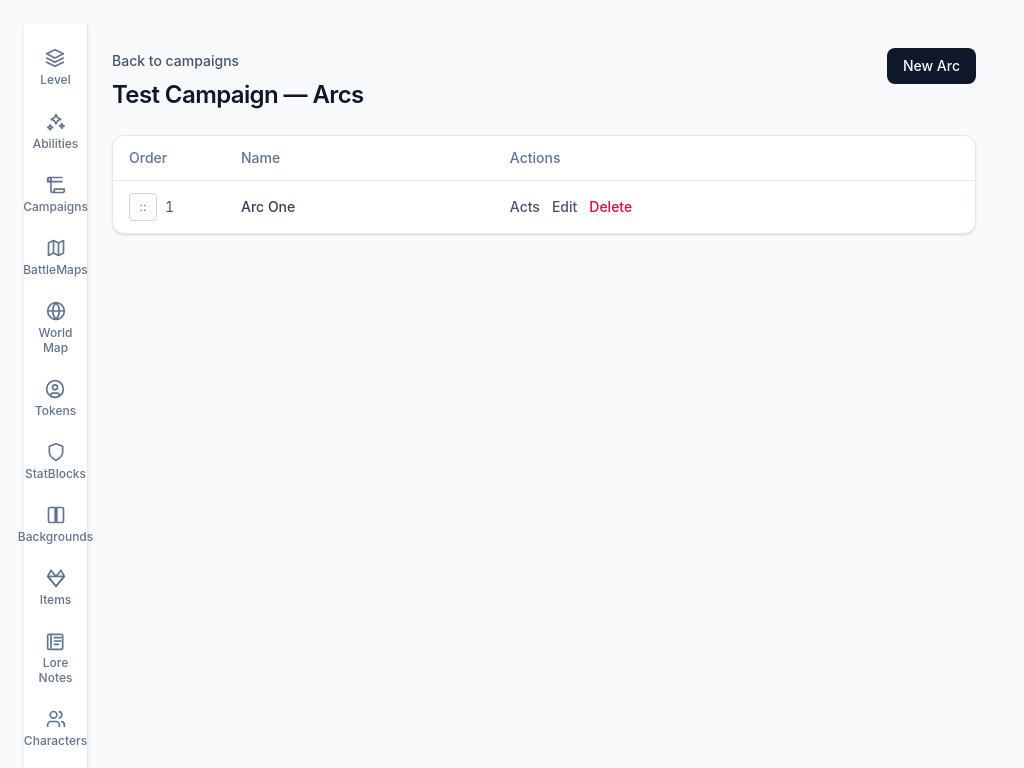
ArcsPage › edit arc › updates arc on edit submit
The image size is (1024, 768).
Expected: the text "Arc One" is shown, [225, 180, 494, 233]
Click the button "Edit" at (565, 207), box [552, 197, 577, 217]
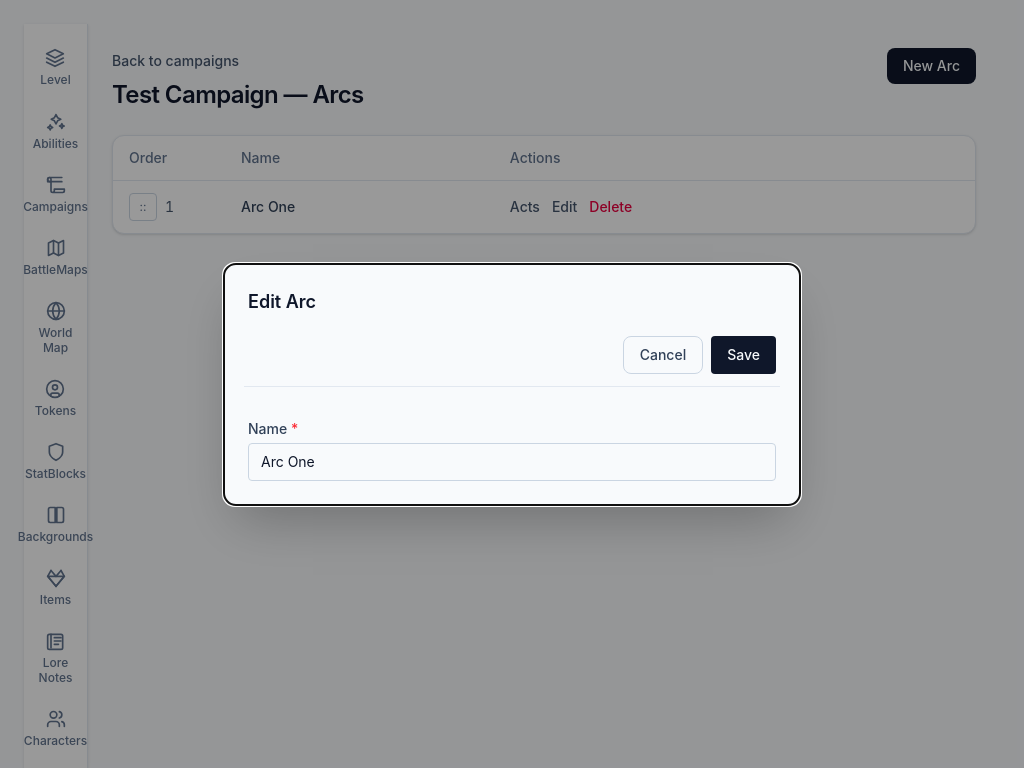
Replace the text in the field labelled "Name *" with "Arc Renamed" at (512, 462), box [248, 442, 776, 480]
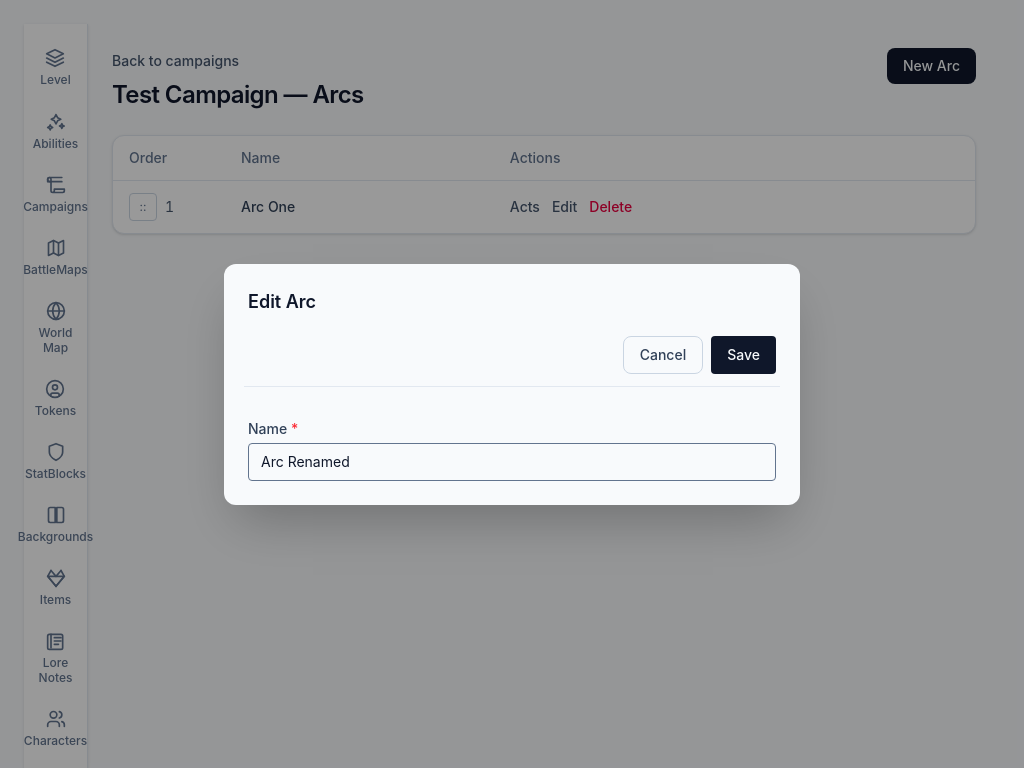
Click the button "Save" at (744, 354), box [711, 336, 776, 374]
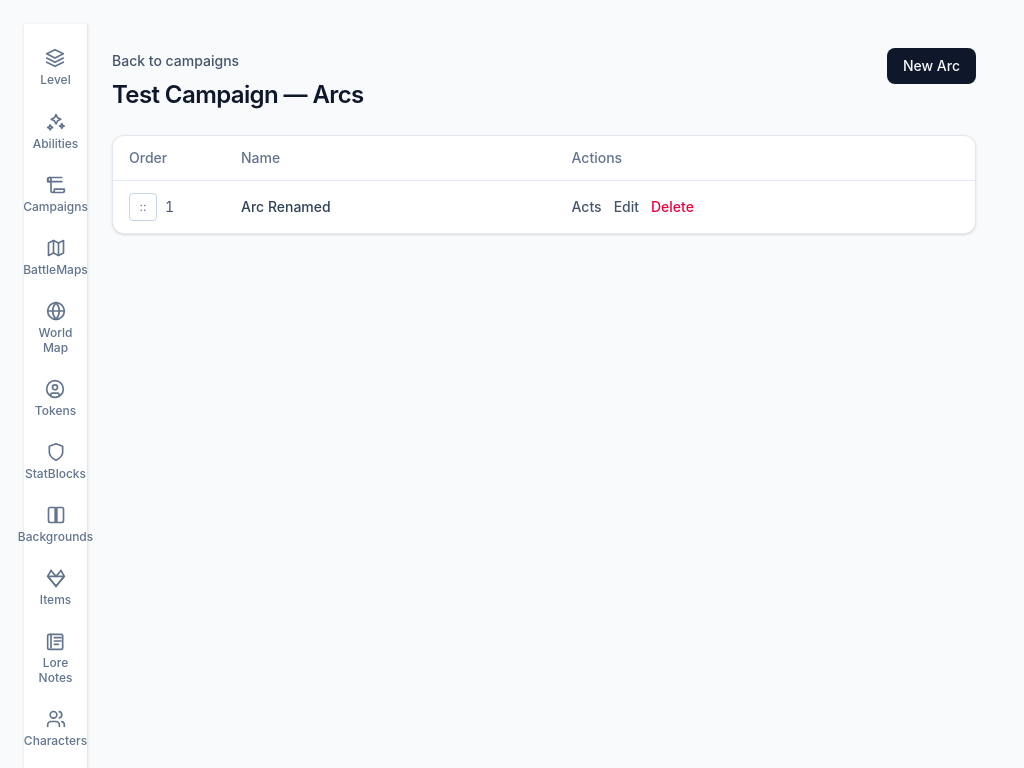
Result: the text "Arc Renamed" is shown at [225, 180, 556, 233]
